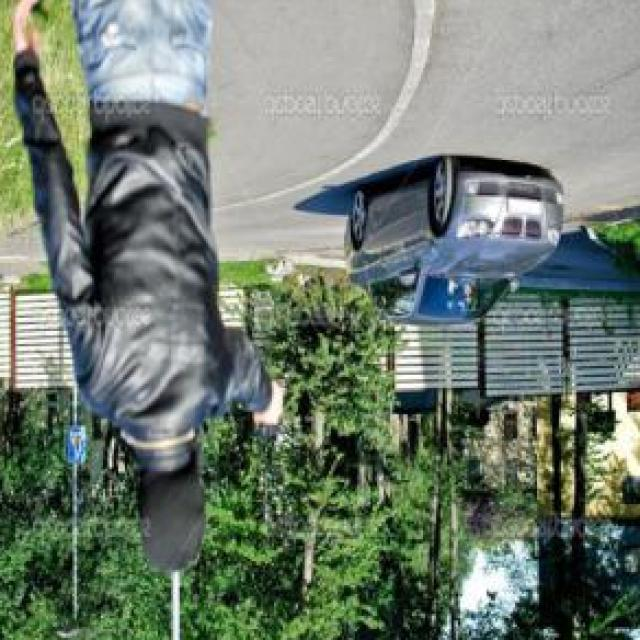pistol: (248, 364, 300, 449)
